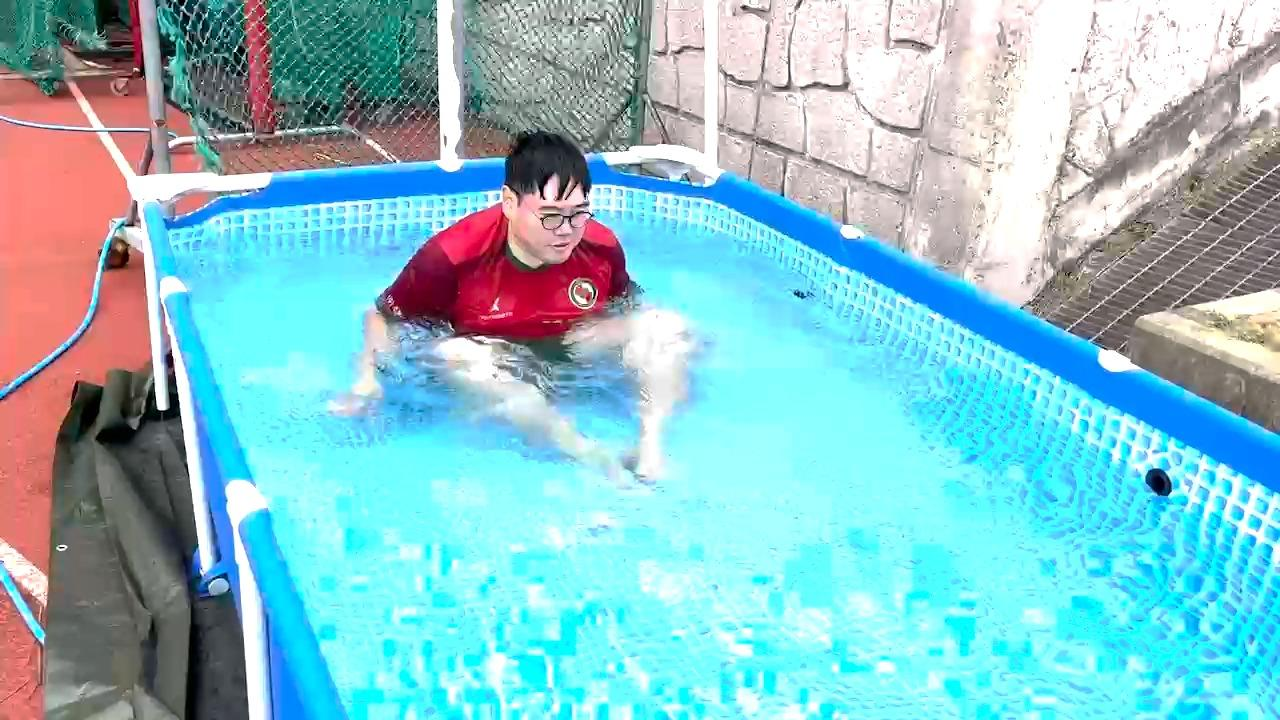Swimming: (323, 75, 755, 501)
